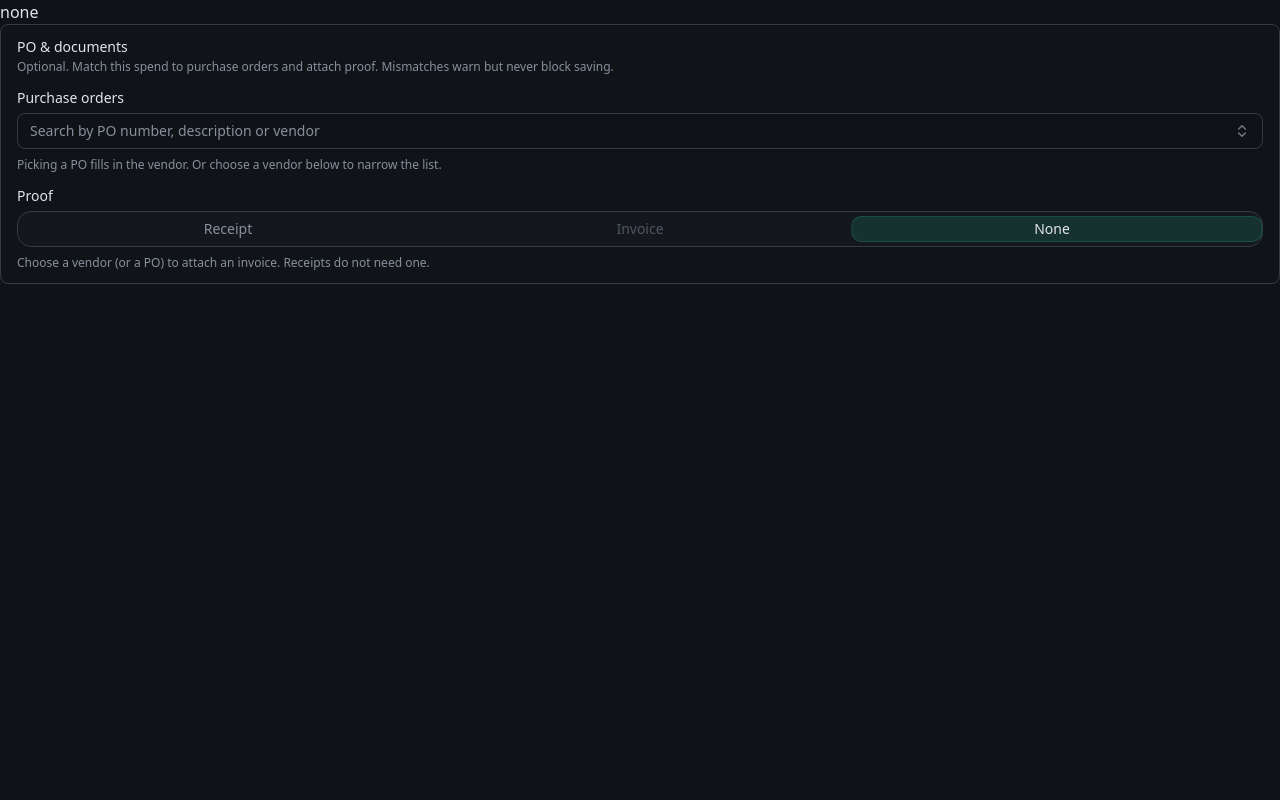
Test: ExpenseDocumentMatch › picking a PO fills the empty vendor and shows the live summary
The image size is (1280, 800).
Click the dropdown named "Purchase orders" at (175, 130), box [17, 113, 1263, 149]
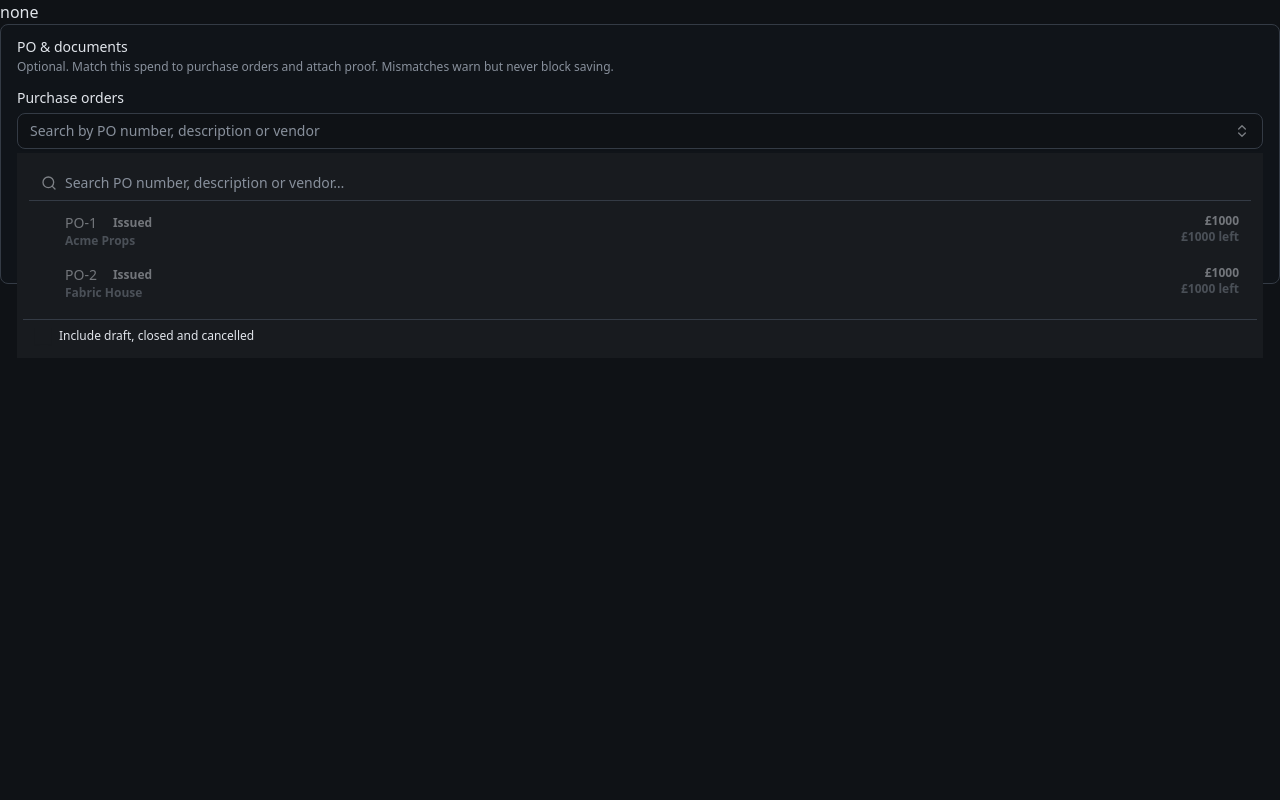
Click the option "PO-2 Issued Fabric House £1000 £1000 left" at (81, 274), box [33, 257, 1247, 309]
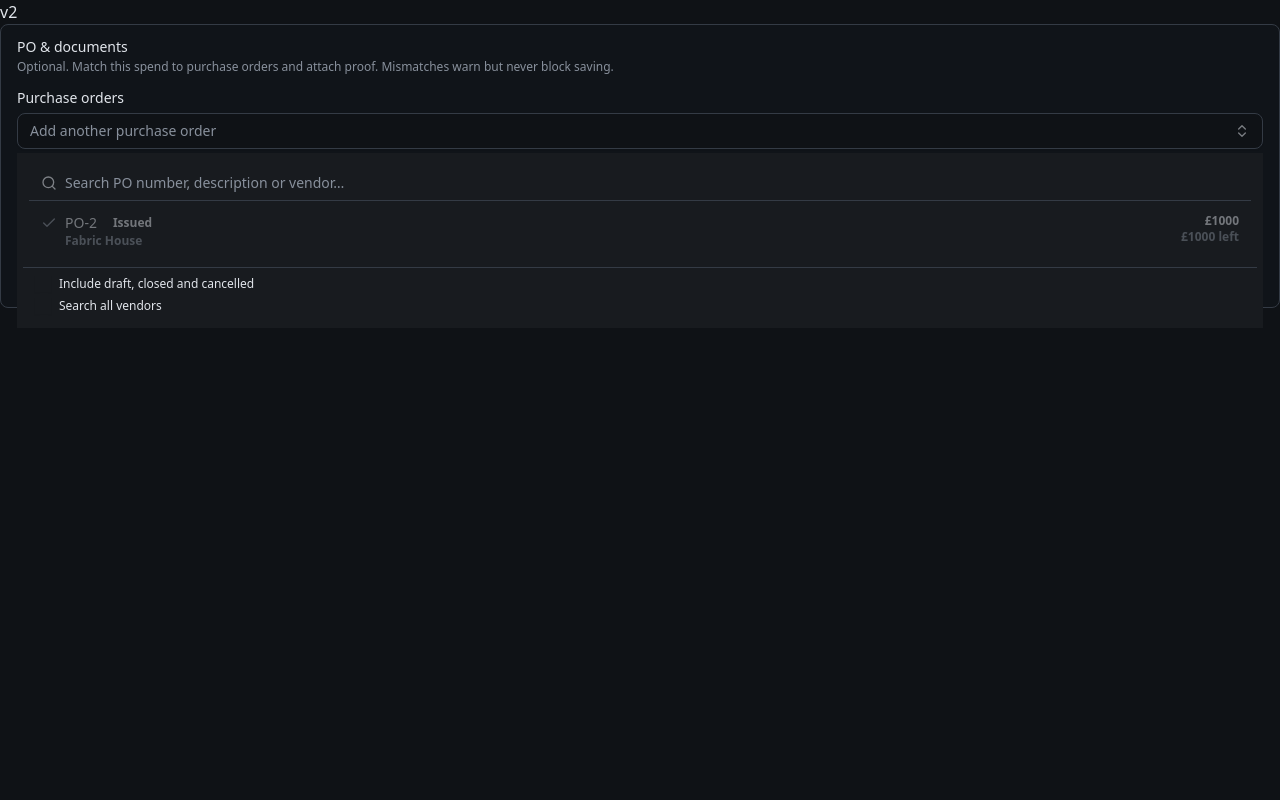
Expected: the list item with test id "po-summary-po-2" shows "£400", [99, 195, 126, 212]
Now the text with test id "vendor" reads "v2", box [0, 1, 17, 23]
